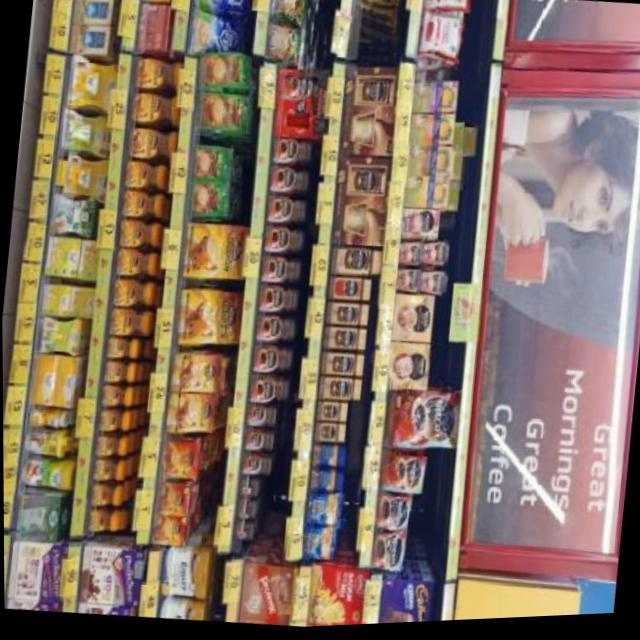Coffee: (377, 388, 459, 458), (162, 392, 216, 437), (167, 353, 219, 398), (128, 88, 181, 131), (131, 54, 183, 95), (376, 455, 424, 499), (125, 126, 178, 165), (326, 248, 381, 283), (157, 438, 197, 482), (259, 223, 304, 260), (255, 282, 298, 320), (263, 193, 306, 231), (256, 255, 301, 291), (250, 313, 296, 348), (249, 342, 292, 379), (246, 372, 289, 408), (367, 534, 405, 574), (268, 164, 309, 201), (112, 245, 154, 280), (372, 497, 410, 535), (269, 136, 312, 169), (321, 326, 366, 357), (122, 159, 164, 192), (109, 276, 150, 309), (106, 306, 147, 339), (315, 377, 361, 406), (117, 218, 157, 251), (318, 353, 364, 381), (322, 303, 368, 331), (120, 189, 160, 221), (95, 406, 129, 436), (95, 430, 126, 461), (86, 481, 118, 511), (237, 451, 270, 480), (85, 507, 117, 536), (242, 404, 275, 432), (100, 360, 133, 387), (312, 402, 347, 427), (90, 458, 122, 485), (241, 428, 273, 455), (104, 337, 136, 363), (98, 384, 130, 410), (311, 424, 343, 447), (236, 478, 258, 502), (233, 520, 253, 546), (234, 501, 256, 523)
